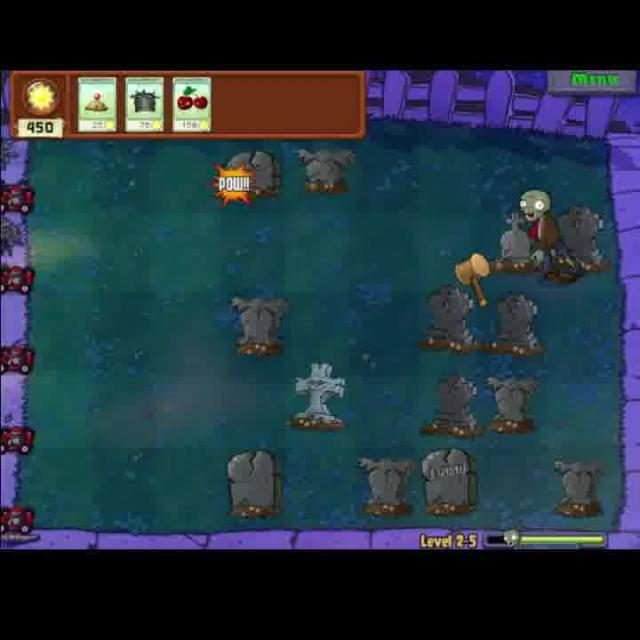coins: (512, 182, 580, 288)
